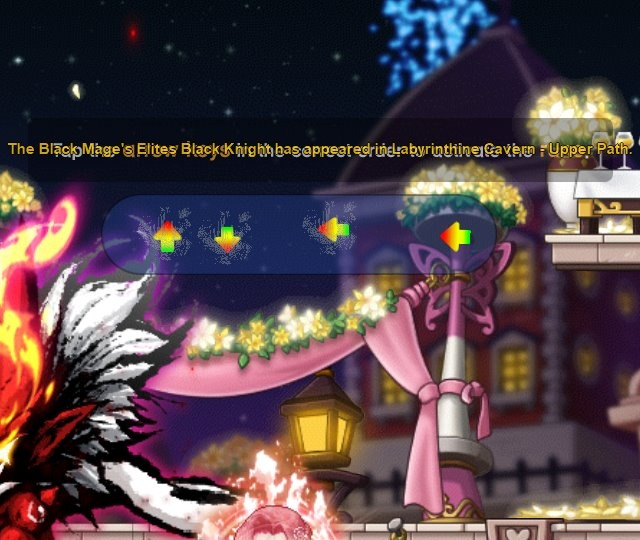rune_box: (93, 184, 508, 283)
